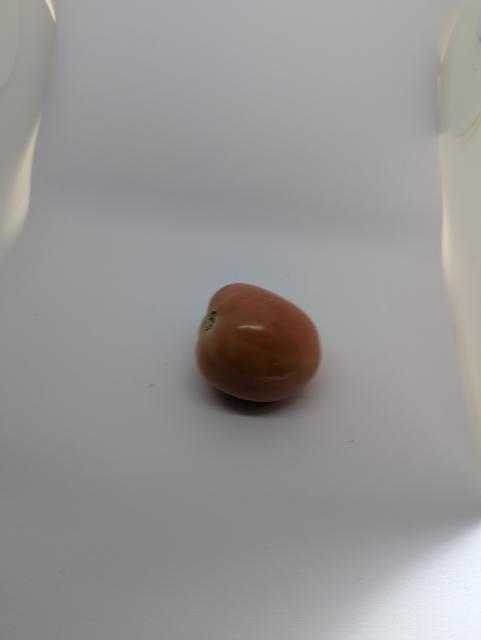red: (192, 280, 325, 416)
